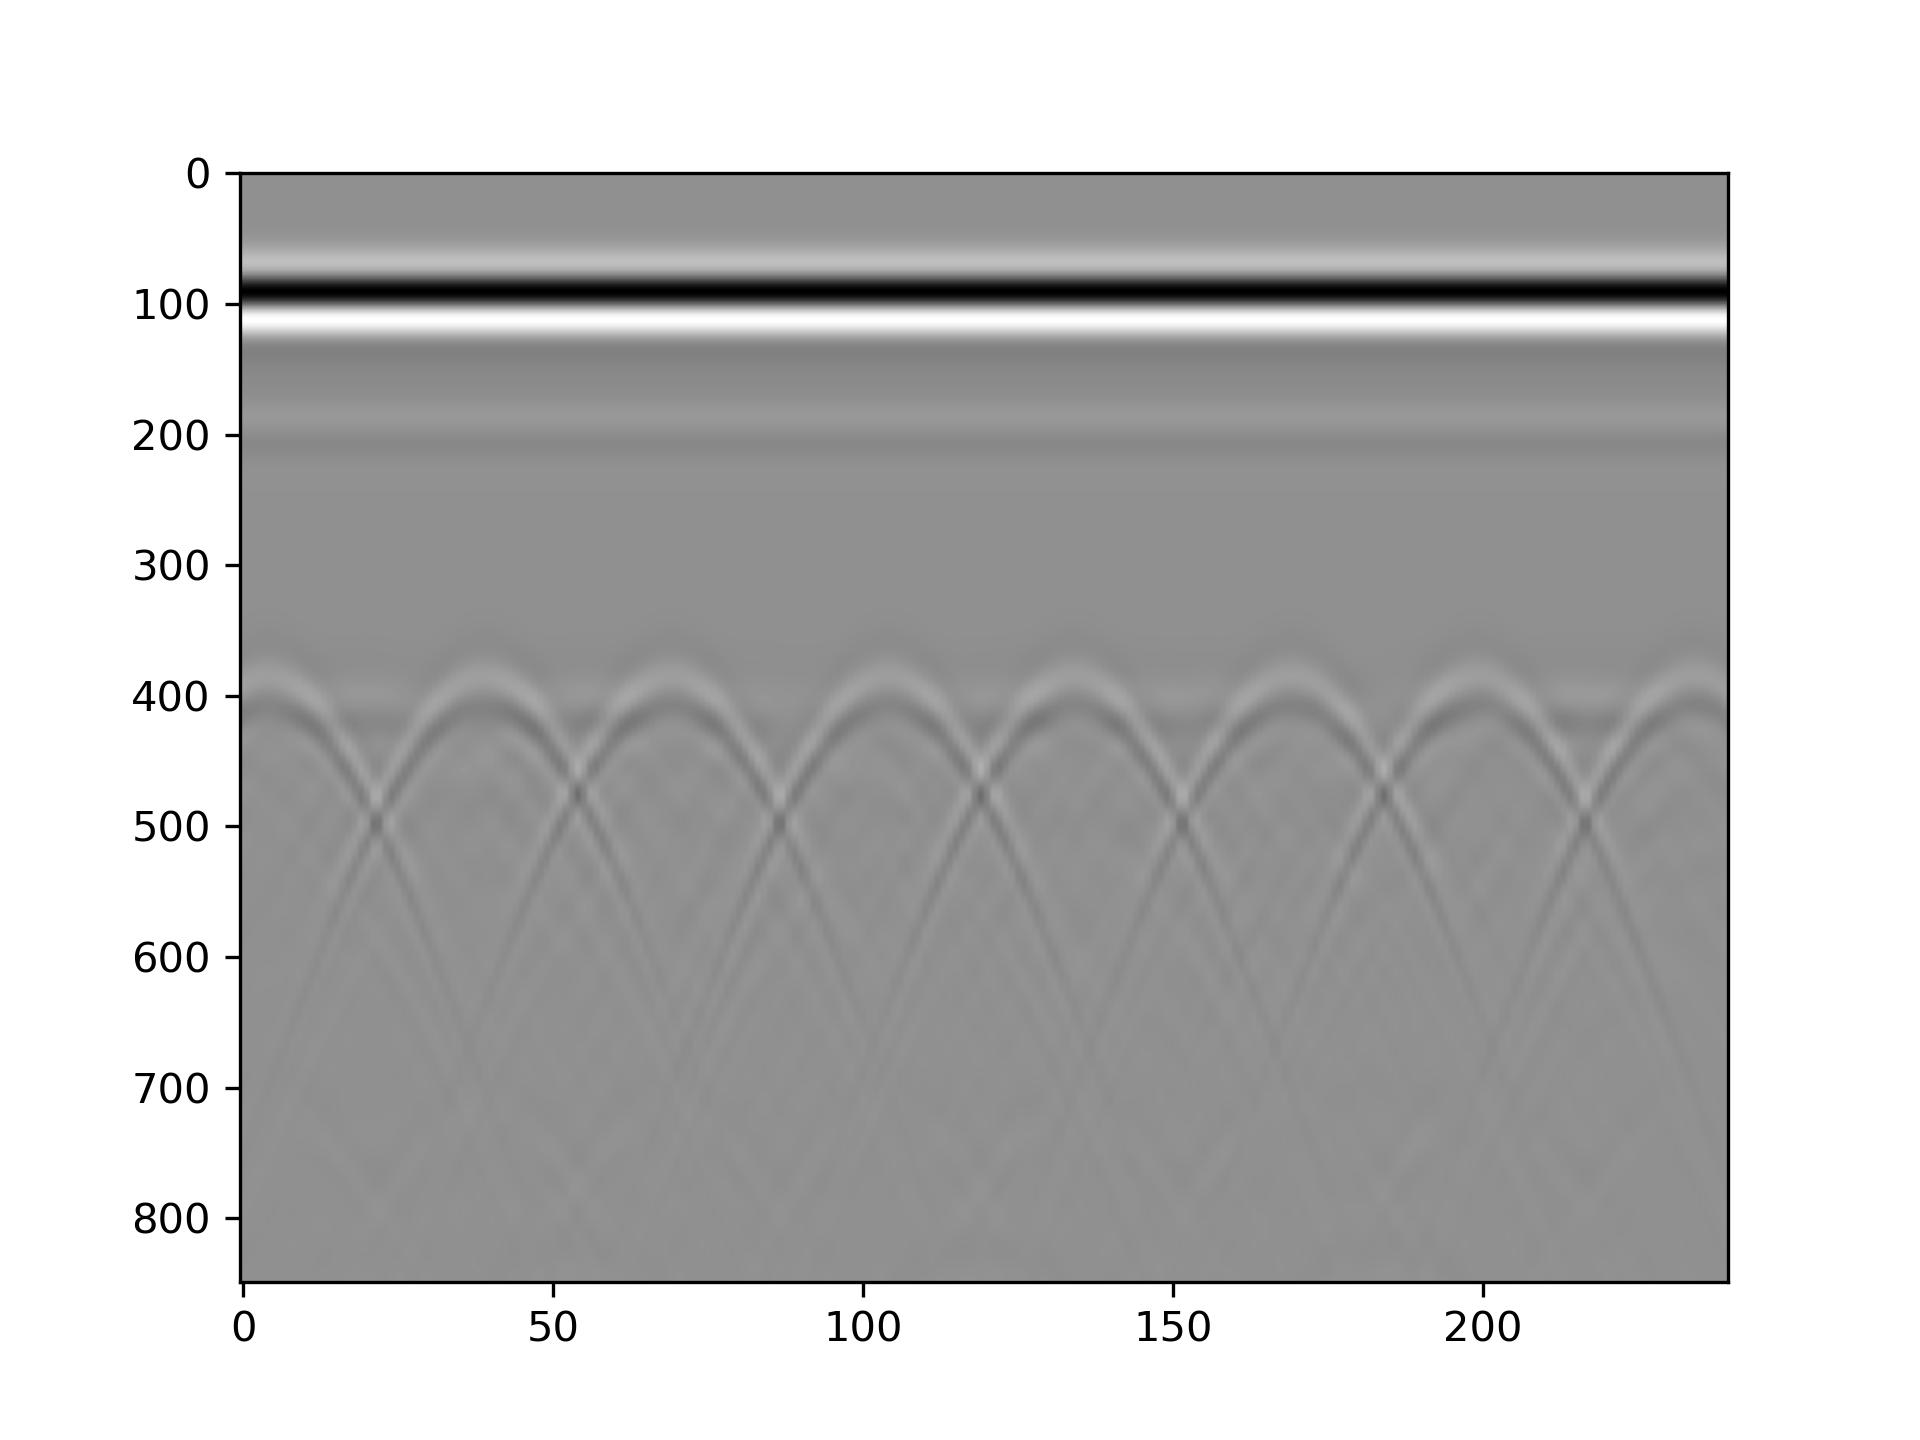钢筋: (1451, 669, 1503, 718), (262, 669, 311, 718), (475, 669, 525, 718), (658, 669, 708, 718), (872, 669, 922, 718), (1055, 669, 1105, 718), (1268, 669, 1318, 718), (1666, 669, 1716, 718)
